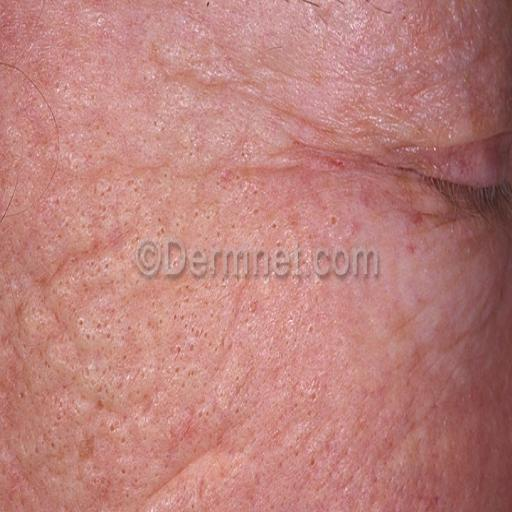Skin_Lesion: (95, 179, 166, 266), (172, 294, 210, 392), (124, 368, 171, 419), (175, 398, 209, 458), (111, 462, 142, 506), (303, 440, 339, 477), (43, 422, 68, 472), (43, 284, 92, 308), (194, 207, 220, 250), (75, 432, 101, 468), (101, 309, 123, 349), (86, 473, 109, 509), (250, 205, 277, 234), (244, 286, 264, 324), (91, 379, 109, 421), (74, 314, 93, 349), (138, 321, 166, 343), (327, 205, 344, 241), (108, 422, 126, 446), (304, 316, 320, 343), (308, 387, 320, 413), (14, 306, 28, 324), (54, 198, 64, 210)
